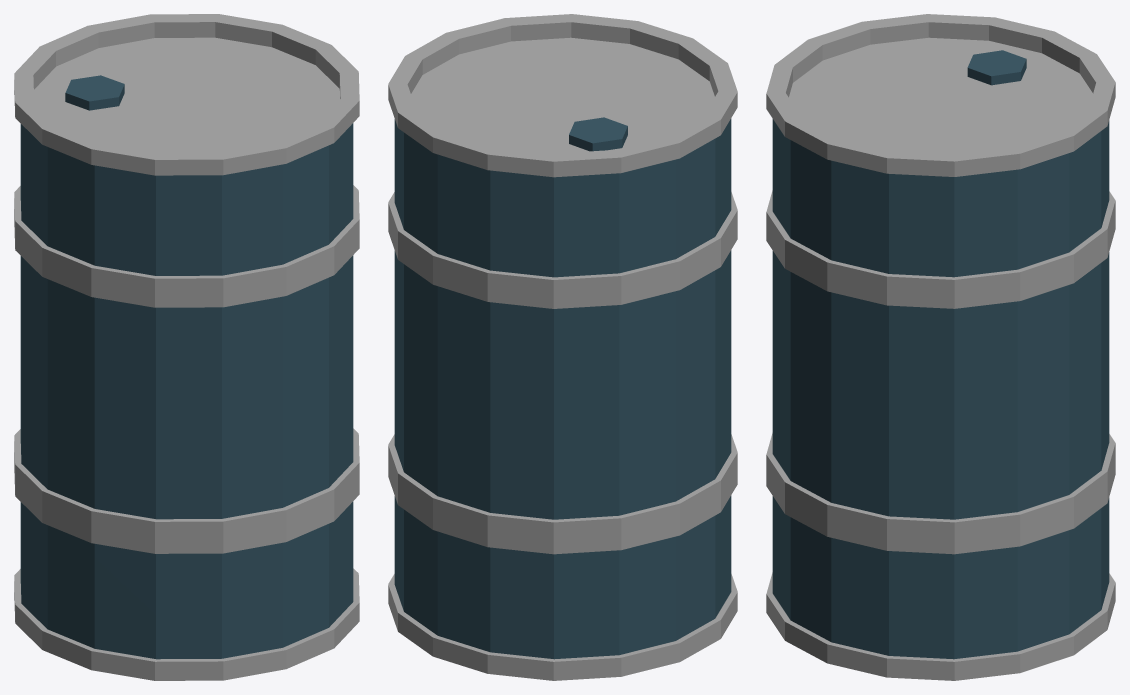
The model's file is barrel_a002.glb.
3 views of the same model, side by side, from view 1: azimuth 30°, elevation 25°; view 2: azimuth 150°, elevation 25°; view 3: azimuth 270°, elevation 25° (orthographic).
Visible parts, largest first — view 1: barrel_a002; view 2: barrel_a002; view 3: barrel_a002.
Boxes of the visible parts, bbox=[...] form: barrel_a002: bbox=[14, 14, 359, 680]; barrel_a002: bbox=[388, 14, 737, 680]; barrel_a002: bbox=[766, 14, 1115, 680].
Bounding box in the file's own units: 0.559 × 0.9177 × 0.559.
Materials: 1 (1 with a texture image).
